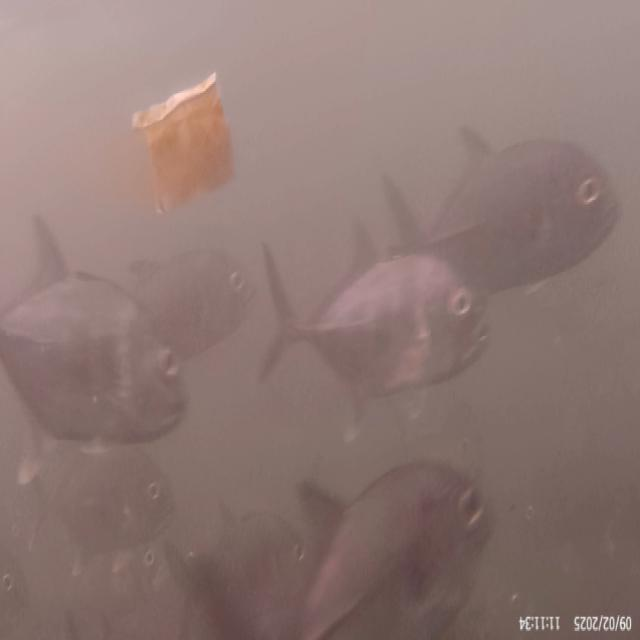ikan: (0, 211, 256, 447), (256, 233, 492, 437), (378, 124, 621, 298), (294, 454, 494, 637)
